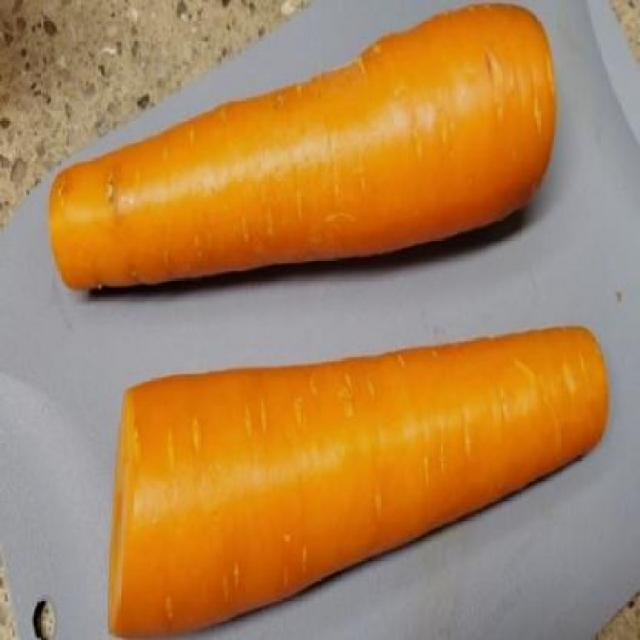carrot: (106, 318, 612, 640), (50, 1, 561, 300)
